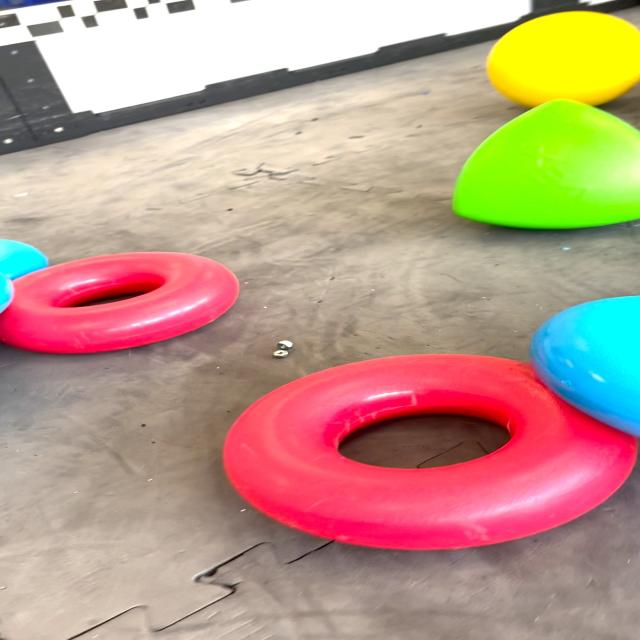Blue-Ring: (531, 296, 640, 436)
Red-Ring: (224, 354, 636, 550), (0, 252, 240, 354)
